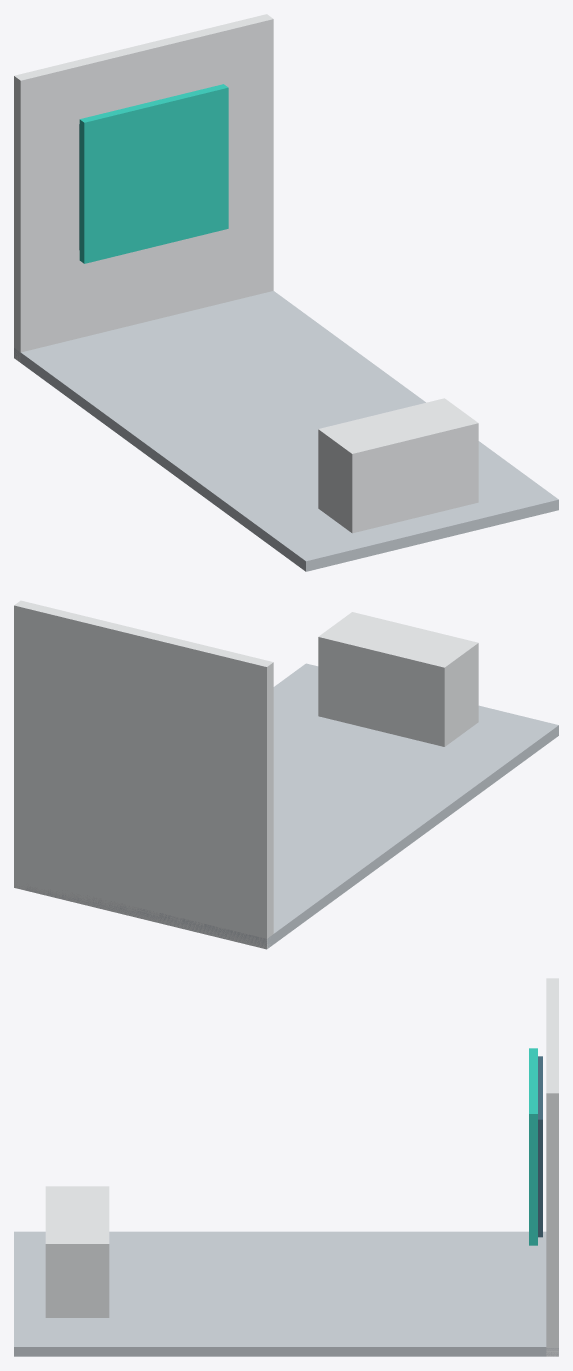
3 renders of one model, top to bottom at view 1: azimuth 30°, elevation 25°; view 2: azimuth 150°, elevation 25°; view 3: azimuth 270°, elevation 25°, orthographic. The views are drawn at different scales.
Visible parts, largest first — view 1: Exhibition Booth Concept; view 2: Exhibition Booth Concept; view 3: Exhibition Booth Concept.
Part boxes in pixels (x1=…): Exhibition Booth Concept: x1=14, y1=14, x2=558, y2=571; Exhibition Booth Concept: x1=14, y1=600, x2=558, y2=949; Exhibition Booth Concept: x1=14, y1=978, x2=558, y2=1356.
Size of the model in its own units: 3 by 3.2 by 6.
